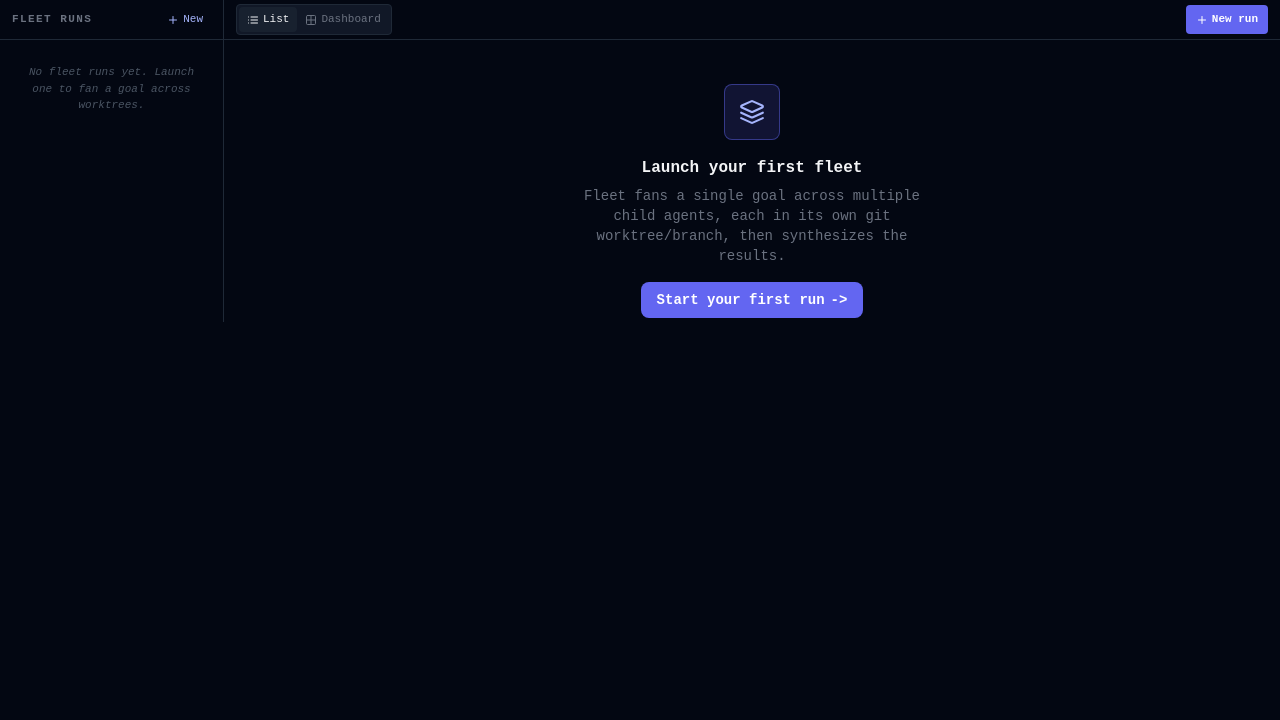
Scenario: FleetTab › highlights empty required fields inline instead of launching
The image size is (1280, 720).
Expected: the text "No fleet runs yet" is shown, [29, 66, 194, 111]
Click the button "Start your first run ->": (752, 300) [641, 282, 863, 318]
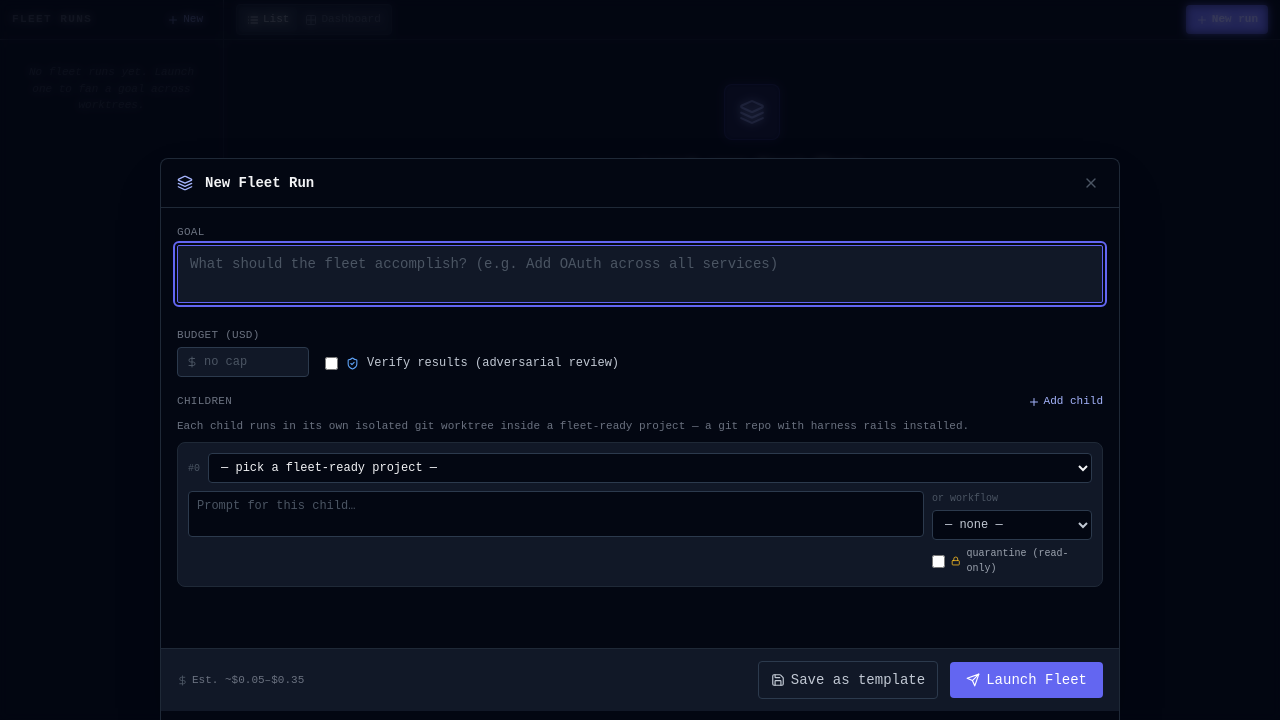
// Click Launch with nothing filled in.
Click the button "Launch Fleet": (1027, 680) [950, 662, 1103, 698]
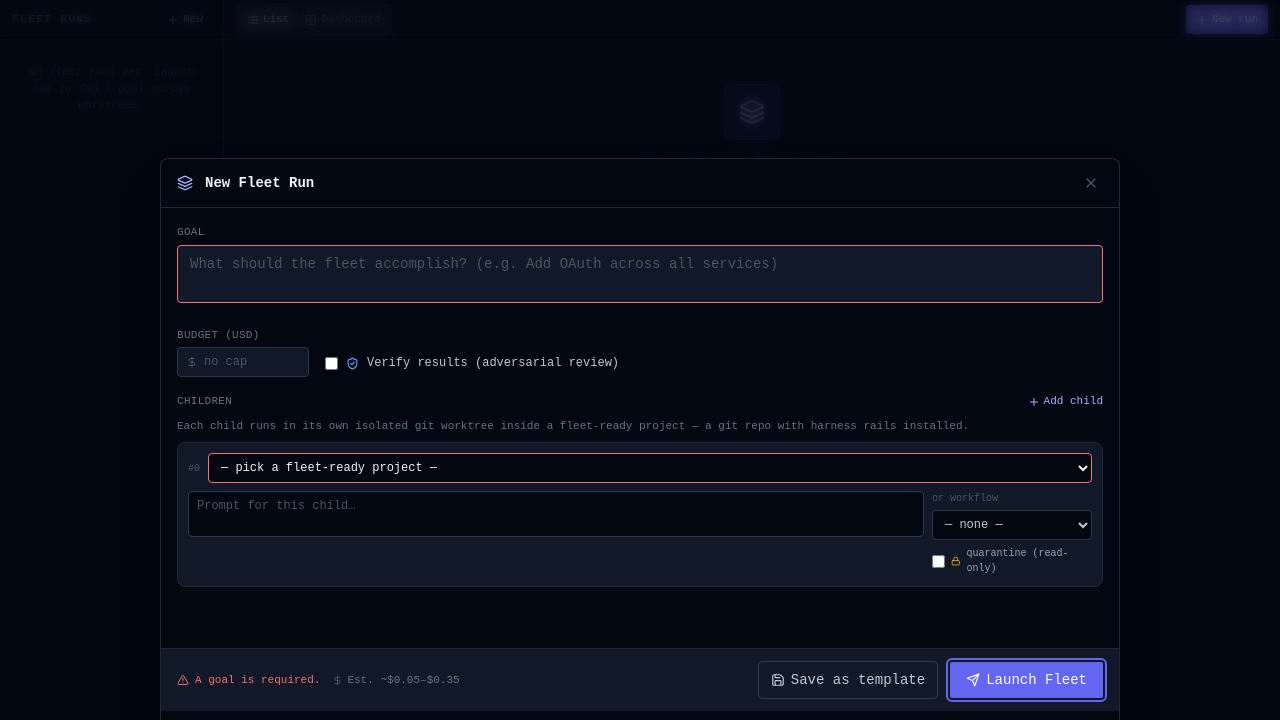
Now the text "A goal is required." is shown, box [177, 672, 320, 688]
